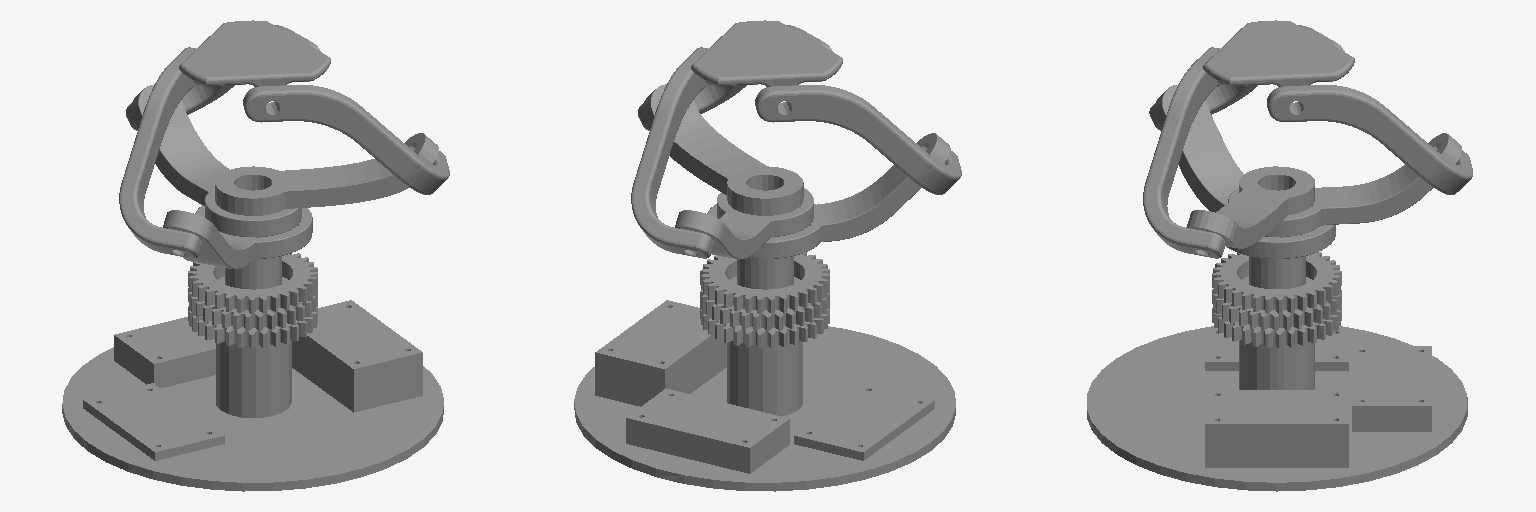
The robot description file, URDF, robot "IMU-one-connection-urdf":
<?xml version="1.0" encoding="utf-8"?>
<!-- This URDF was automatically created by SolidWorks to URDF Exporter! Originally created by Stephen Brawner (brawner@gmail.com) 
     Commit Version: 1.6.0-4-g7f85cfe  Build Version: 1.6.7995.38578
     For more information, please see http://wiki.ros.org/sw_urdf_exporter -->
<robot
  name="IMU-one-connection-urdf">
  <link
    name="base_link">
    <inertial>
      <origin
        xyz="0.010494 0.008044 0.012091"
        rpy="0 0 0" />
      <mass
        value="0.35654" />
      <inertia
        ixx="0.00064889"
        ixy="2.8947E-05"
        ixz="-2.959E-05"
        iyy="0.00078221"
        iyz="-1.603E-06"
        izz="0.0013158" />
    </inertial>
    <visual>
      <origin
        xyz="0 0 0"
        rpy="0 0 0" />
      <geometry>
        <mesh
          filename="package://IMU-one-connection-urdf/meshes/base_link.STL" />
      </geometry>
      <material
        name="">
        <color
          rgba="0.62745 0.62745 0.62745 1" />
      </material>
    </visual>
    <collision>
      <origin
        xyz="0 0 0"
        rpy="0 0 0" />
      <geometry>
        <mesh
          filename="package://IMU-one-connection-urdf/meshes/base_link.STL" />
      </geometry>
    </collision>
  </link>
  <link
    name="level-1-gear">
    <inertial>
      <origin
        xyz="0.013587 -0.0056429 0.094341"
        rpy="0 0 0" />
      <mass
        value="0.080761" />
      <inertia
        ixx="4.6616E-05"
        ixy="9.2204E-06"
        ixz="-3.4092E-06"
        iyy="6.3656E-05"
        iyz="1.493E-06"
        izz="4.7367E-05" />
    </inertial>
    <visual>
      <origin
        xyz="0 0 0"
        rpy="0 0 0" />
      <geometry>
        <mesh
          filename="package://IMU-one-connection-urdf/meshes/level-1-gear.STL" />
      </geometry>
      <material
        name="">
        <color
          rgba="0.62745 0.62745 0.62745 1" />
      </material>
    </visual>
    <collision>
      <origin
        xyz="0 0 0"
        rpy="0 0 0" />
      <geometry>
        <mesh
          filename="package://IMU-one-connection-urdf/meshes/level-1-gear.STL" />
      </geometry>
    </collision>
  </link>
  <joint
    name="level-1-gear-rev"
    type="revolute">
    <origin
      xyz="0 0 0"
      rpy="0 0 0" />
    <parent
      link="base_link" />
    <child
      link="level-1-gear" />
    <axis
      xyz="0 0 -1" />
    <limit
      lower="0"
      upper="0"
      effort="0"
      velocity="0" />
  </joint>
  <link
    name="level-1-blue-link-bottom">
    <inertial>
      <origin
        xyz="-0.043902 -0.01287 0.028036"
        rpy="0 0 0" />
      <mass
        value="0.02334" />
      <inertia
        ixx="1.4695E-05"
        ixy="4.1327E-06"
        ixz="1.5846E-05"
        iyy="3.5763E-05"
        iyz="-2.5484E-06"
        izz="2.6462E-05" />
    </inertial>
    <visual>
      <origin
        xyz="0 0 0"
        rpy="0 0 0" />
      <geometry>
        <mesh
          filename="package://IMU-one-connection-urdf/meshes/level-1-blue-link-bottom.STL" />
      </geometry>
      <material
        name="">
        <color
          rgba="0.62745 0.62745 0.62745 1" />
      </material>
    </visual>
    <collision>
      <origin
        xyz="0 0 0"
        rpy="0 0 0" />
      <geometry>
        <mesh
          filename="package://IMU-one-connection-urdf/meshes/level-1-blue-link-bottom.STL" />
      </geometry>
    </collision>
  </link>
  <joint
    name="level-1-blue-link-bottom-rev"
    type="revolute">
    <origin
      xyz="0.082963 -0.036024 0.14008"
      rpy="0 0 0" />
    <parent
      link="level-1-gear" />
    <child
      link="level-1-blue-link-bottom" />
    <axis
      xyz="-0.64772 0.28365 0.70711" />
    <limit
      lower="0"
      upper="0"
      effort="0"
      velocity="0" />
  </joint>
  <link
    name="top-plate-link-hand-1">
    <inertial>
      <origin
        xyz="0.010671 0.038994 0.010481"
        rpy="0 0 0" />
      <mass
        value="0.021991" />
      <inertia
        ixx="7.722E-06"
        ixy="6.6298E-13"
        ixz="4.3689E-12"
        iyy="7.722E-06"
        iyz="7.4372E-12"
        izz="1.499E-05" />
    </inertial>
    <visual>
      <origin
        xyz="0 0 0"
        rpy="0 0 0" />
      <geometry>
        <mesh
          filename="package://IMU-one-connection-urdf/meshes/top-plate-link-hand-1.STL" />
      </geometry>
      <material
        name="">
        <color
          rgba="0.62745 0.62745 0.62745 1" />
      </material>
    </visual>
    <collision>
      <origin
        xyz="0 0 0"
        rpy="0 0 0" />
      <geometry>
        <mesh
          filename="package://IMU-one-connection-urdf/meshes/top-plate-link-hand-1.STL" />
      </geometry>
    </collision>
  </link>
  <joint
    name="top-plate-link-hand-1-rev"
    type="revolute">
    <origin
      xyz="-0.093634 -0.0026632 0.053033"
      rpy="0 0 0" />
    <parent
      link="level-1-blue-link-bottom" />
    <child
      link="top-plate-link-hand-1" />
    <axis
      xyz="0.40114 0.91602 0" />
    <limit
      lower="0"
      upper="0"
      effort="0"
      velocity="0" />
  </joint>
  <link
    name="level-2-gear">
    <inertial>
      <origin
        xyz="-0.0027259 0.0248 0.10006"
        rpy="0 0 0" />
      <mass
        value="0.05027" />
      <inertia
        ixx="4.2669E-05"
        ixy="3.3189E-06"
        ixz="7.8807E-07"
        iyy="1.3216E-05"
        iyz="-7.081E-06"
        izz="5.0056E-05" />
    </inertial>
    <visual>
      <origin
        xyz="0 0 0"
        rpy="0 0 0" />
      <geometry>
        <mesh
          filename="package://IMU-one-connection-urdf/meshes/level-2-gear.STL" />
      </geometry>
      <material
        name="">
        <color
          rgba="0.62745 0.62745 0.62745 1" />
      </material>
    </visual>
    <collision>
      <origin
        xyz="0 0 0"
        rpy="0 0 0" />
      <geometry>
        <mesh
          filename="package://IMU-one-connection-urdf/meshes/level-2-gear.STL" />
      </geometry>
    </collision>
  </link>
  <joint
    name="level-2-gear-rev"
    type="revolute">
    <origin
      xyz="0 0 0"
      rpy="0 0 0" />
    <parent
      link="base_link" />
    <child
      link="level-2-gear" />
    <axis
      xyz="0 0 -1" />
    <limit
      lower="0"
      upper="0"
      effort="0"
      velocity="0" />
  </joint>
  <link
    name="level-2-blue-link-bottom">
    <inertial>
      <origin
        xyz="0.033097 -0.031585 0.028036"
        rpy="0 0 0" />
      <mass
        value="0.02334" />
      <inertia
        ixx="3.4075E-05"
        ixy="7.0566E-06"
        ixz="-5.7159E-06"
        iyy="1.6383E-05"
        iyz="1.4997E-05"
        izz="2.6462E-05" />
    </inertial>
    <visual>
      <origin
        xyz="0 0 0"
        rpy="0 0 0" />
      <geometry>
        <mesh
          filename="package://IMU-one-connection-urdf/meshes/level-2-blue-link-bottom.STL" />
      </geometry>
      <material
        name="">
        <color
          rgba="0.62745 0.62745 0.62745 1" />
      </material>
    </visual>
    <collision>
      <origin
        xyz="0 0 0"
        rpy="0 0 0" />
      <geometry>
        <mesh
          filename="package://IMU-one-connection-urdf/meshes/level-2-blue-link-bottom.STL" />
      </geometry>
    </collision>
  </link>
  <joint
    name="level-2-blue-link-bottom-rev"
    type="revolute">
    <origin
      xyz="-0.010018 0.090321 0.14008"
      rpy="0 0 0" />
    <parent
      link="level-2-gear" />
    <child
      link="level-2-blue-link-bottom" />
    <axis
      xyz="0.078213 -0.70277 0.70711" />
    <limit
      lower="0"
      upper="0"
      effort="0"
      velocity="0" />
  </joint>
  <link
    name="level-3-gear">
    <inertial>
      <origin
        xyz="-0.021472 -0.015495 0.10403"
        rpy="0 0 0" />
      <mass
        value="0.047184" />
      <inertia
        ixx="2.9339E-05"
        ixy="-1.6846E-05"
        ixz="9.6986E-06"
        iyy="3.9833E-05"
        iyz="7.1375E-06"
        izz="5.7783E-05" />
    </inertial>
    <visual>
      <origin
        xyz="0 0 0"
        rpy="0 0 0" />
      <geometry>
        <mesh
          filename="package://IMU-one-connection-urdf/meshes/level-3-gear.STL" />
      </geometry>
      <material
        name="">
        <color
          rgba="0.62745 0.62745 0.62745 1" />
      </material>
    </visual>
    <collision>
      <origin
        xyz="0 0 0"
        rpy="0 0 0" />
      <geometry>
        <mesh
          filename="package://IMU-one-connection-urdf/meshes/level-3-gear.STL" />
      </geometry>
    </collision>
  </link>
  <joint
    name="level-3-gear-rev"
    type="revolute">
    <origin
      xyz="0 0 0"
      rpy="0 0 0" />
    <parent
      link="base_link" />
    <child
      link="level-3-gear" />
    <axis
      xyz="0 0 -1" />
    <limit
      lower="0"
      upper="0"
      effort="0"
      velocity="0" />
  </joint>
  <link
    name="level-3-blue-link-bottom">
    <inertial>
      <origin
        xyz="0.010805 0.044455 0.028036"
        rpy="0 0 0" />
      <mass
        value="0.02334" />
      <inertia
        ixx="2.6917E-05"
        ixy="-1.1189E-05"
        ixz="-1.013E-05"
        iyy="2.3541E-05"
        iyz="-1.2449E-05"
        izz="2.6462E-05" />
    </inertial>
    <visual>
      <origin
        xyz="0 0 0"
        rpy="0 0 0" />
      <geometry>
        <mesh
          filename="package://IMU-one-connection-urdf/meshes/level-3-blue-link-bottom.STL" />
      </geometry>
      <material
        name="">
        <color
          rgba="0.62745 0.62745 0.62745 1" />
      </material>
    </visual>
    <collision>
      <origin
        xyz="0 0 0"
        rpy="0 0 0" />
      <geometry>
        <mesh
          filename="package://IMU-one-connection-urdf/meshes/level-3-blue-link-bottom.STL" />
      </geometry>
    </collision>
  </link>
  <joint
    name="level-3-blue-link-bottom-rev"
    type="revolute">
    <origin
      xyz="-0.072945 -0.053375 0.14008"
      rpy="0 0 0" />
    <parent
      link="level-3-gear" />
    <child
      link="level-3-blue-link-bottom" />
    <axis
      xyz="0.56951 0.41912 0.70711" />
    <limit
      lower="0"
      upper="0"
      effort="0"
      velocity="0" />
  </joint>
</robot>

--- What the picture shows (computed from the rendered views, not written in the file) ---
3 views of the same robot in one strip: view 1: azimuth 30°, elevation 25°; view 2: azimuth 150°, elevation 25°; view 3: azimuth 270°, elevation 25° (orthographic).
Robot: IMU-one-connection-urdf — 8 links, 7 joints (7 revolute); root link base_link; default pose: all joints at 0.
Links seen in each view (by area): view 1: base_link, level-1-gear, level-2-gear, level-3-gear, level-1-blue-link-bottom, top-plate-link-hand-1, level-3-blue-link-bottom, level-2-blue-link-bottom; view 2: base_link, level-1-gear, level-3-gear, level-3-blue-link-bottom, top-plate-link-hand-1, level-2-gear, level-2-blue-link-bottom, level-1-blue-link-bottom; view 3: base_link, level-3-gear, level-1-gear, level-2-gear, level-2-blue-link-bottom, top-plate-link-hand-1, level-1-blue-link-bottom, level-3-blue-link-bottom.
Link boxes in pixels (<box>): base_link: <box>62,300,443,491</box>; level-1-gear: <box>188,133,438,348</box>; level-2-gear: <box>131,84,317,330</box>; level-3-gear: <box>163,205,317,313</box>; level-1-blue-link-bottom: <box>243,85,449,194</box>; top-plate-link-hand-1: <box>179,20,330,106</box>; level-3-blue-link-bottom: <box>119,47,201,258</box>; level-2-blue-link-bottom: <box>126,25,320,130</box>; base_link: <box>574,300,955,491</box>; level-1-gear: <box>643,84,829,348</box>; level-3-gear: <box>700,133,950,313</box>; level-3-blue-link-bottom: <box>755,85,961,194</box>; top-plate-link-hand-1: <box>691,20,842,106</box>; level-2-gear: <box>675,188,829,330</box>; level-2-blue-link-bottom: <box>631,47,713,258</box>; level-1-blue-link-bottom: <box>638,25,832,130</box>; base_link: <box>1087,326,1467,491</box>; level-3-gear: <box>1155,84,1341,313</box>; level-1-gear: <box>1186,166,1341,347</box>; level-2-gear: <box>1212,133,1461,330</box>; level-2-blue-link-bottom: <box>1267,85,1472,194</box>; top-plate-link-hand-1: <box>1203,20,1354,106</box>; level-1-blue-link-bottom: <box>1143,47,1225,258</box>; level-3-blue-link-bottom: <box>1149,25,1344,130</box>.
Bounding box of the posed robot: 0.2 × 0.2024 × 0.207 m (x, y, z).
Meshes: 8 distinct files referenced, 8 mesh visuals loaded (8 binary STL).
